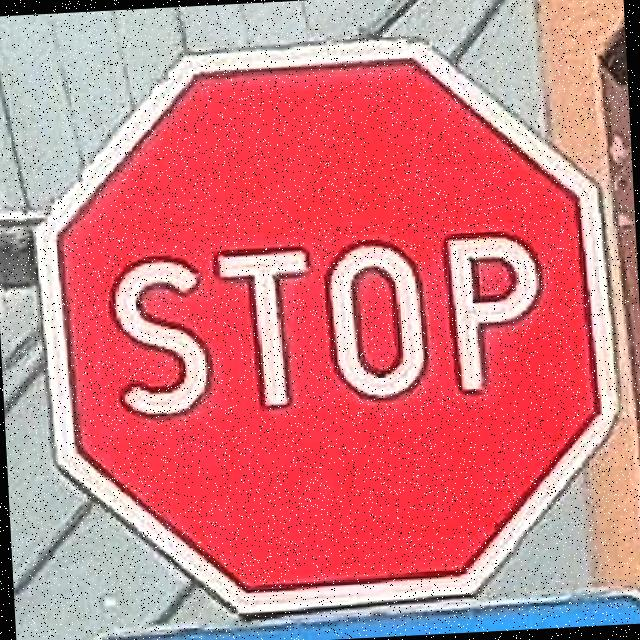Stop: (22, 24, 630, 627)
